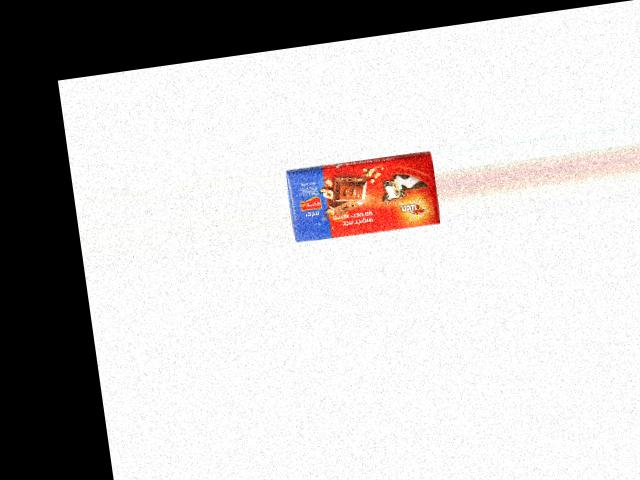chocolate: (286, 144, 440, 242)
